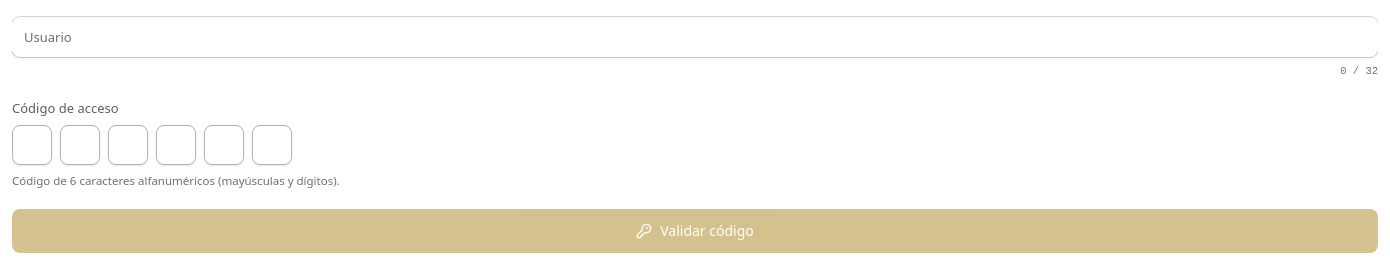
LoginFormOtp (single-step username + OTP, gold-box restyle) › strips non-alphanumeric characters and forces uppercase from any single box
The image size is (1390, 270).
In the field labelled "Código de acceso": (32, 144) [12,124,52,164], type "a!"
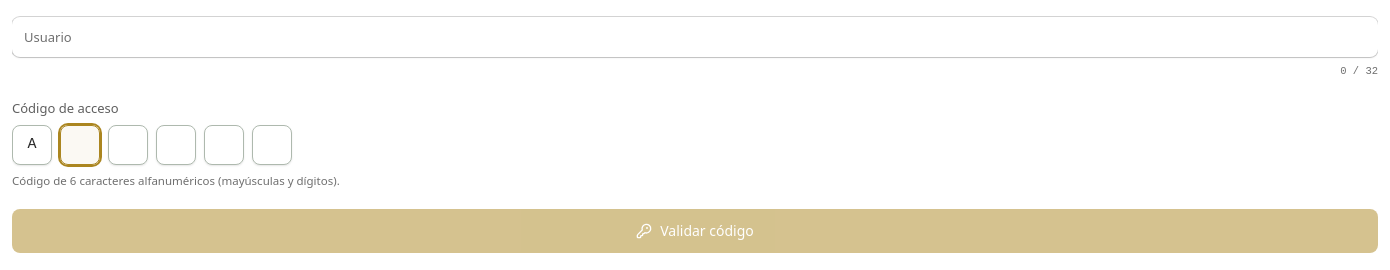
Expected: the field labelled "Código de acceso" holds "A", [12,124,52,164]
In the field named "Digit 2 of 6": (80, 144) [60,124,100,164], type "1-"
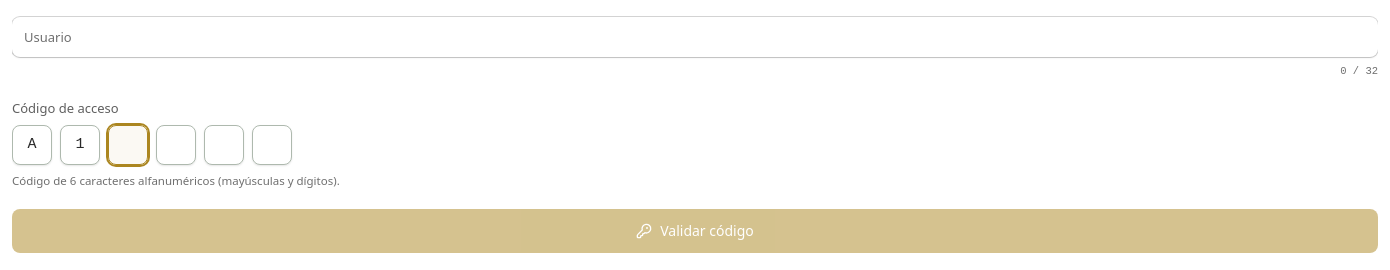
Expected: the field named "Digit 2 of 6" holds "1", [60,124,100,164]
